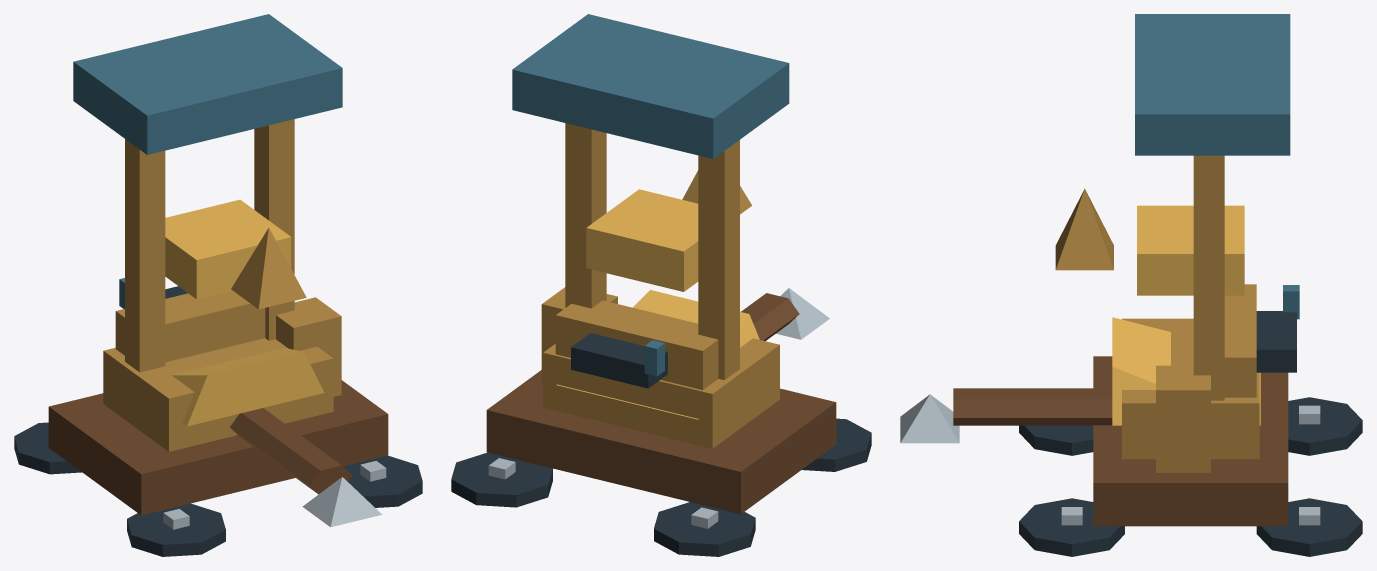
The model's file is siege-tower.obj.
3 renders of one model, left to right at view 1: azimuth 30°, elevation 25°; view 2: azimuth 150°, elevation 25°; view 3: azimuth 270°, elevation 25°, orthographic. The views are drawn at different scales.
Parts seen in each view (by area): view 1: siege; view 2: siege; view 3: siege.
Boxes of the visible parts, x1,y1,x2,y2 form: siege: (14,14,422,556); siege: (451,14,871,556); siege: (900,14,1362,556).
Size of the model in its own units: 1.9 by 2.53 by 2.53.
